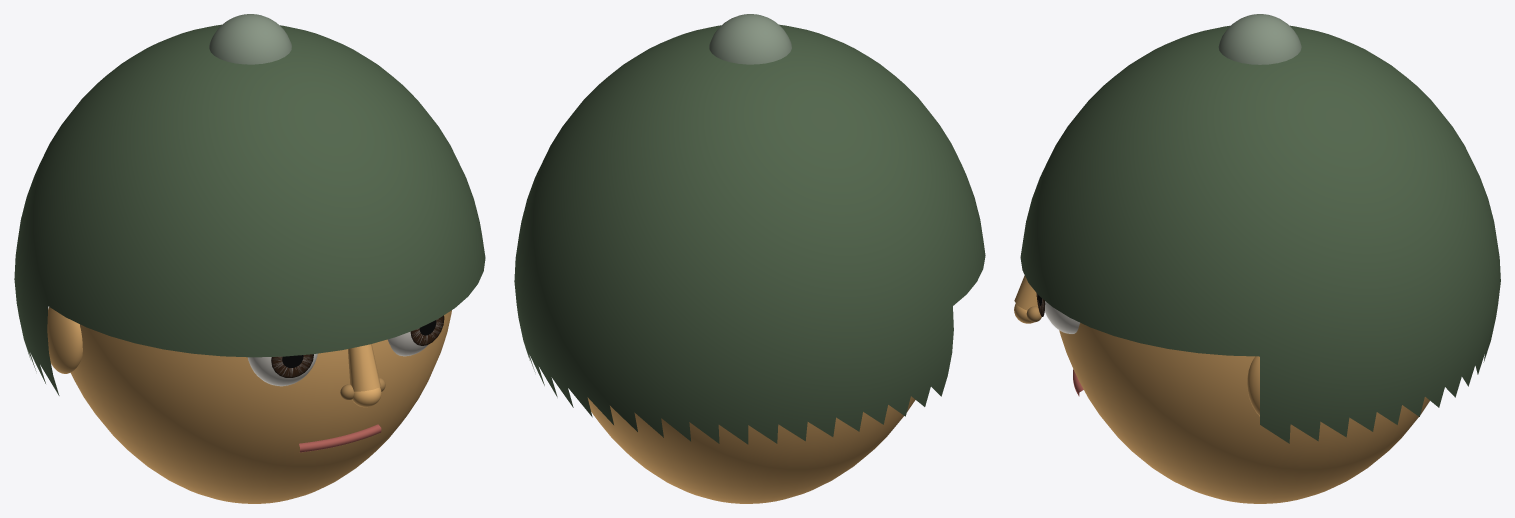
File: 01-bonnet.glb
3 renders of one model, left to right at view 1: azimuth 30°, elevation 25°; view 2: azimuth 150°, elevation 25°; view 3: azimuth 270°, elevation 25°, orthographic.
Size of the model in its own units: 0.3275 by 0.3625 by 0.3387.
11 materials, 1 textured.
